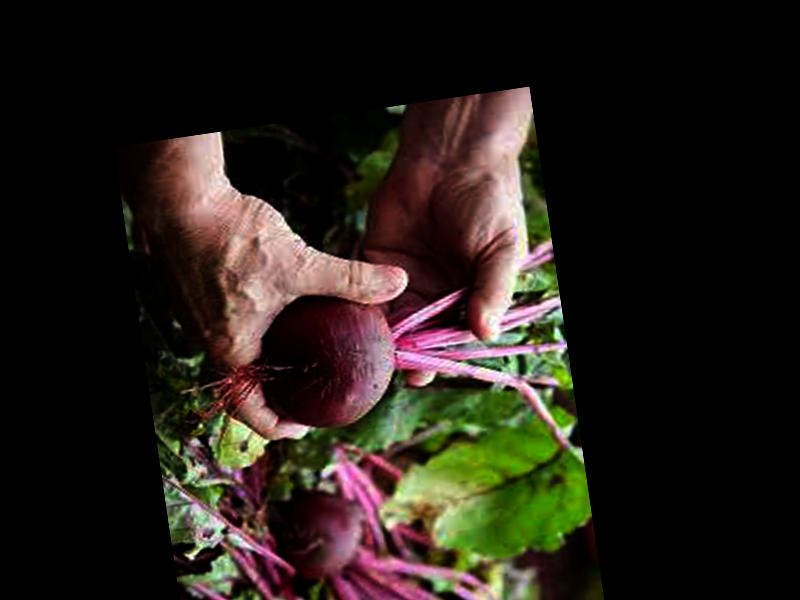Beet: (249, 257, 581, 509)
